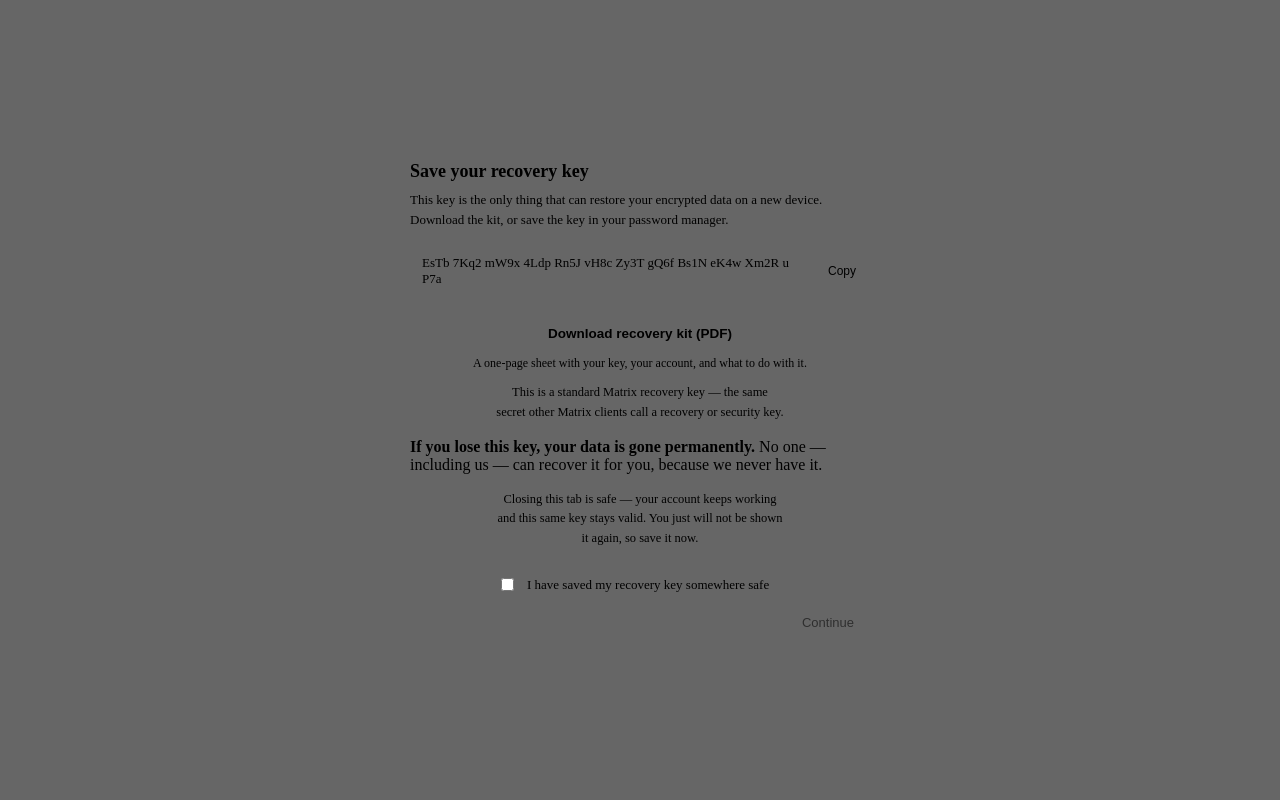
Test case: VerifyDeviceScreen › prove the key was saved › rejects a wrong group and says so, without leaving the step
This screenshot has width=1280, height=800.
Click the checkbox.
click(508, 585)  # box [501,578,514,591]
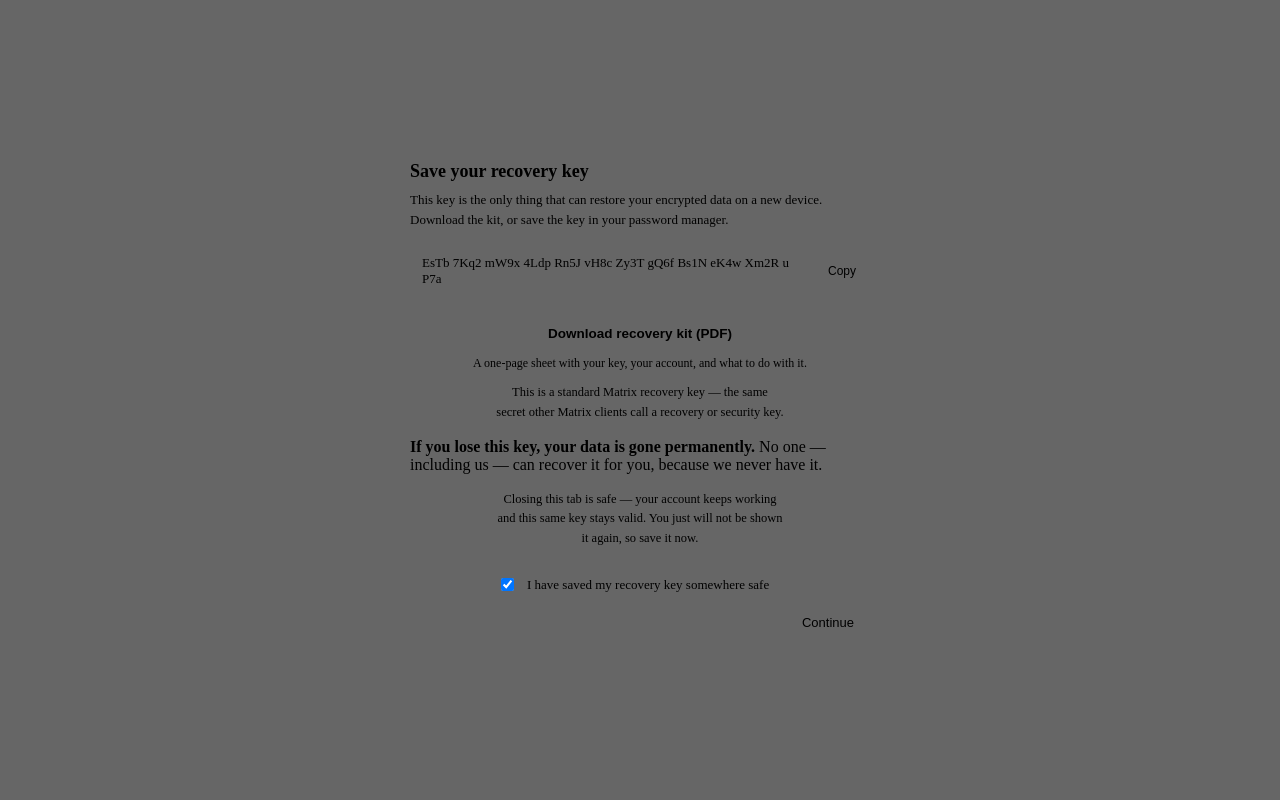
Click the button "Continue".
click(828, 622)  # box [786,606,870,639]
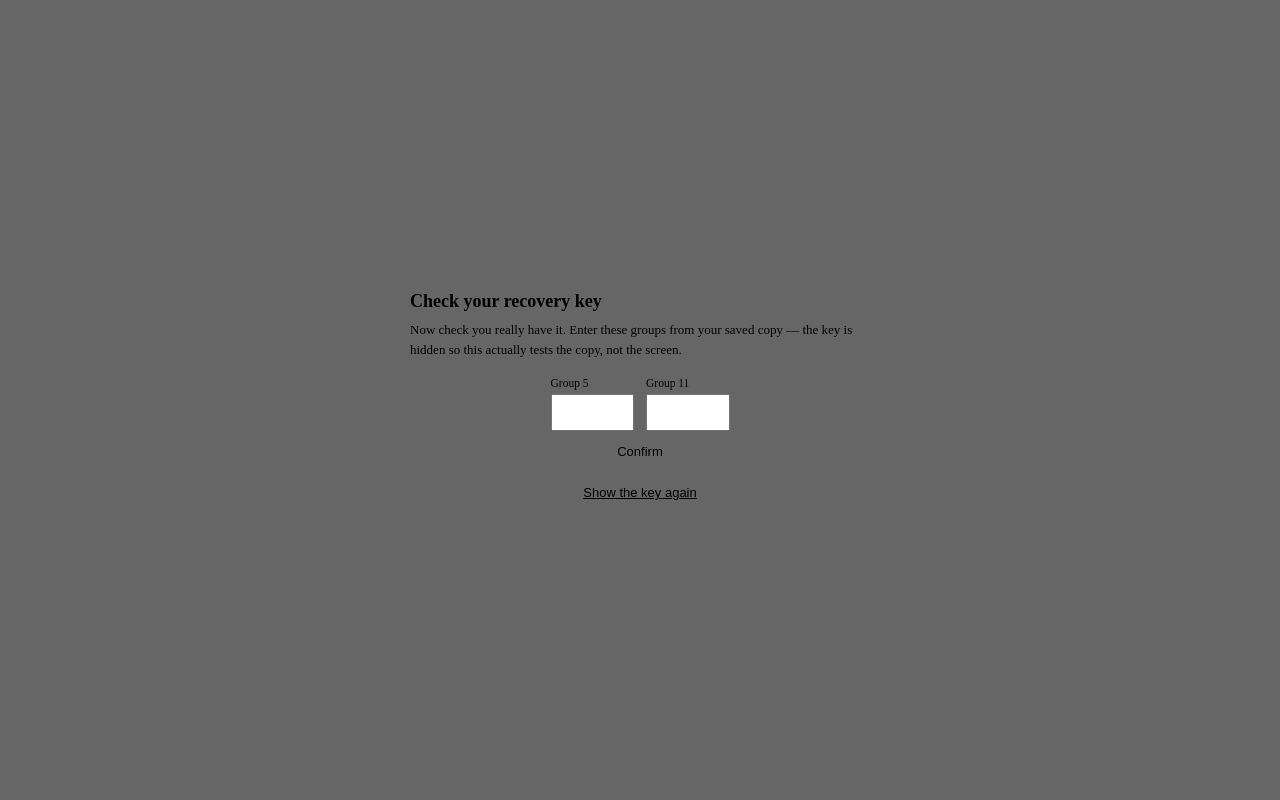
Type "wrong" into the field labelled "Group 5".
click(592, 412); type("wrong")  # box [550,394,634,431]
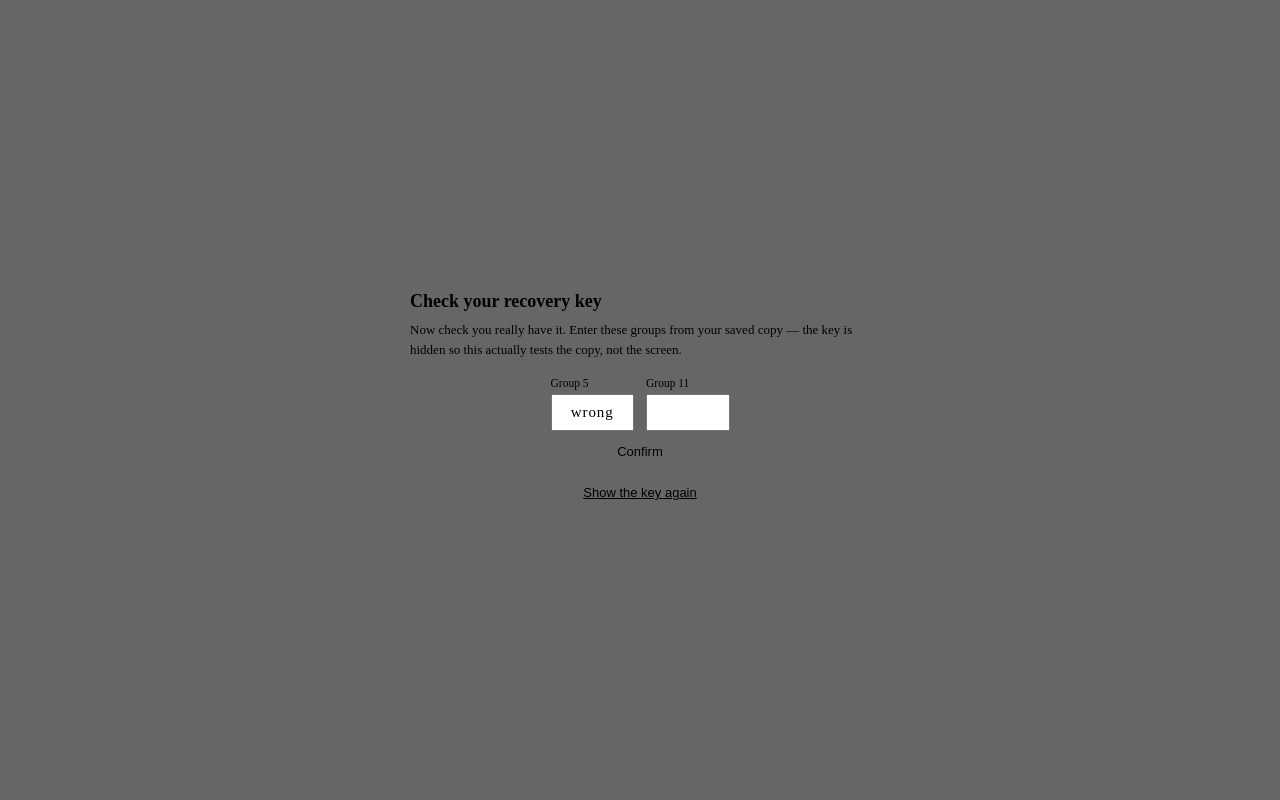
Type "wrong" into the field labelled "Group 11".
click(688, 412); type("wrong")  # box [646,394,730,431]
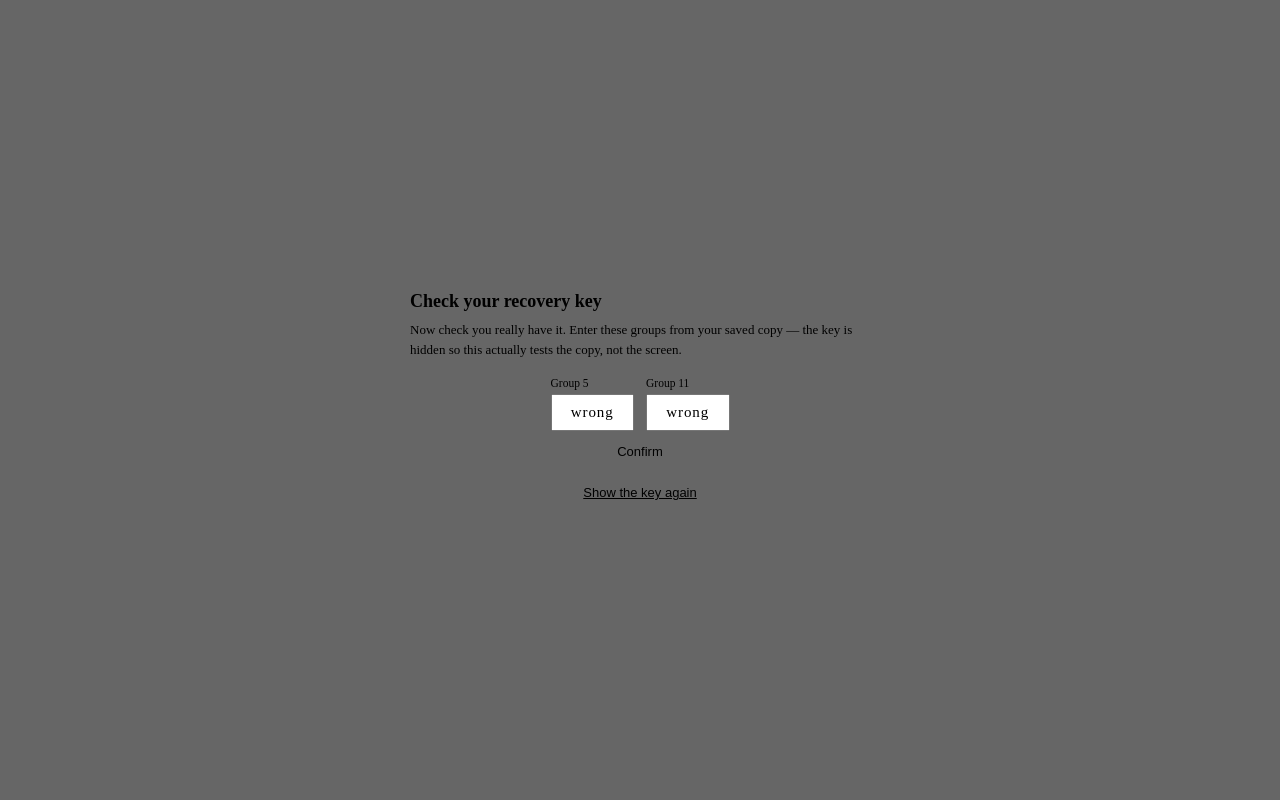
Click the button "Confirm".
click(640, 452)  # box [410,435,870,468]
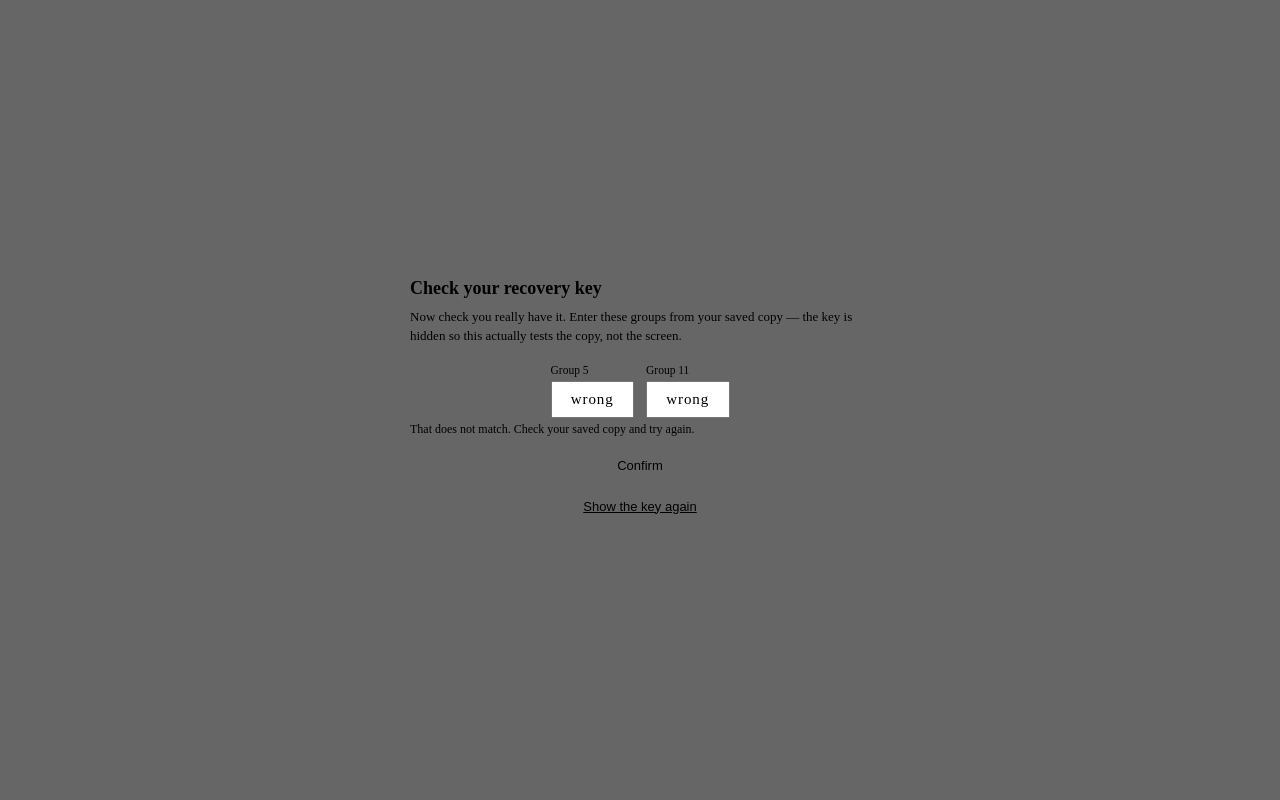
Now the message shows "does not match", box [410,422,695,436]
